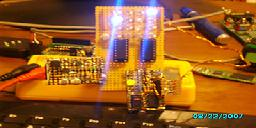LED: (108, 11, 126, 27), (144, 7, 161, 20)
